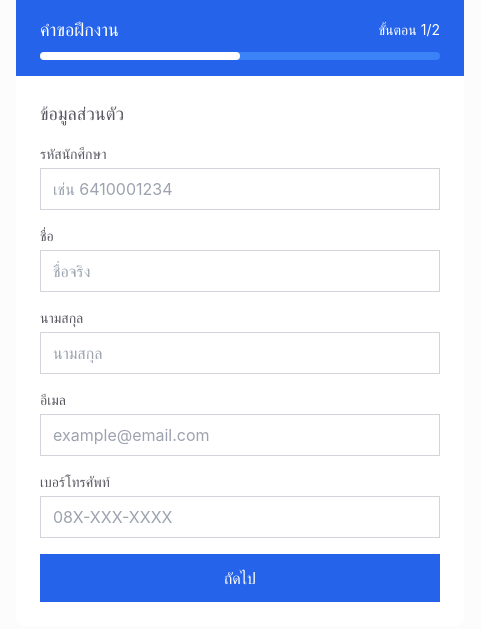
Mobile Form Workflow › Multi-step Form Navigation › navigates to second step when first step is valid
This screenshot has width=481, height=629.
// Fill first step
Type "6410001234" into the field labelled "รหัสนักศึกษา". click: coordinates (240, 189)
box: [40,168,440,210]
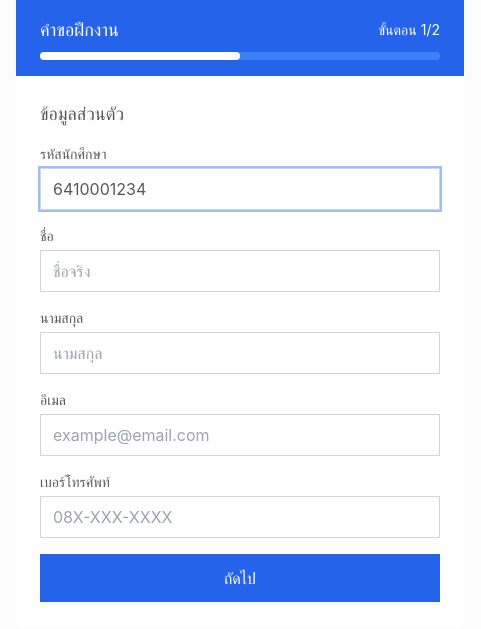
Type "John" into the field labelled "ชื่อ". click: coordinates (240, 271)
box: [40,250,440,292]
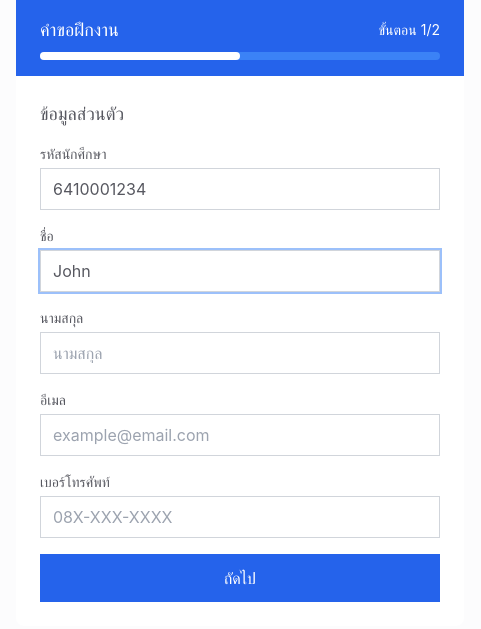
Type "Doe" into the field labelled "นามสกุล". click: coordinates (240, 353)
box: [40,332,440,374]
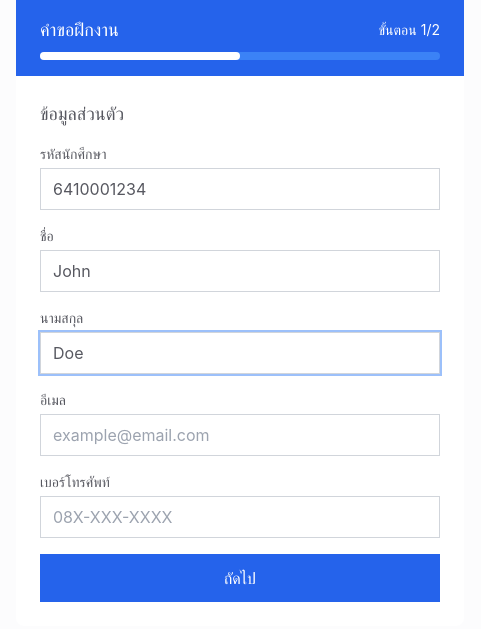
Type "john@example.com" into the field labelled "อีเมล". click: coordinates (240, 435)
box: [40,414,440,456]
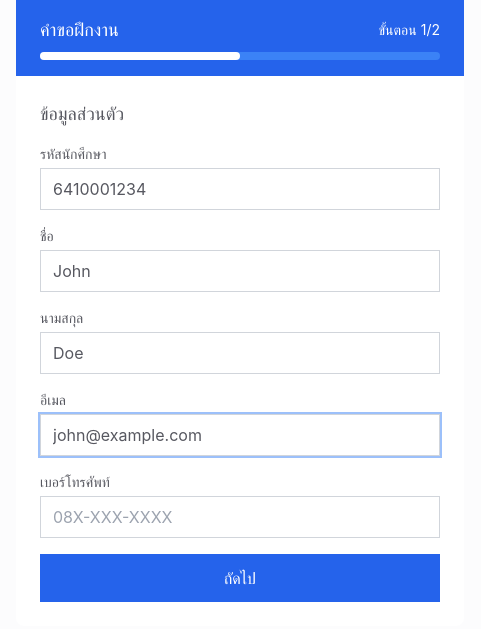
Type "0812345678" into the field labelled "เบอร์โทรศัพท์". click: coordinates (240, 517)
box: [40,496,440,538]
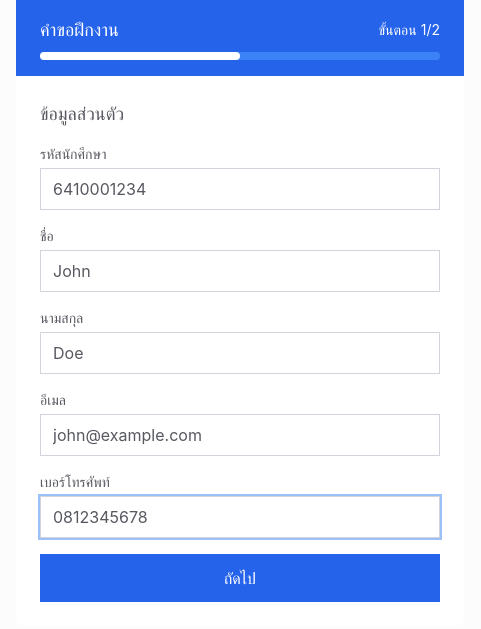
// Click next
Click the button "ถัดไป". click: coordinates (240, 578)
box: [40,554,440,602]
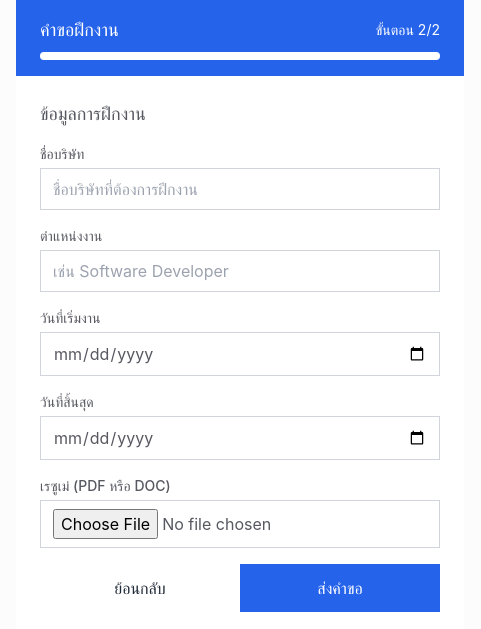
Check: the text "ขั้นตอน 2/2" is shown, box [376,20,440,40]
Check: the heading "ข้อมูลการฝึกงาน" is shown, box [40,103,146,124]
